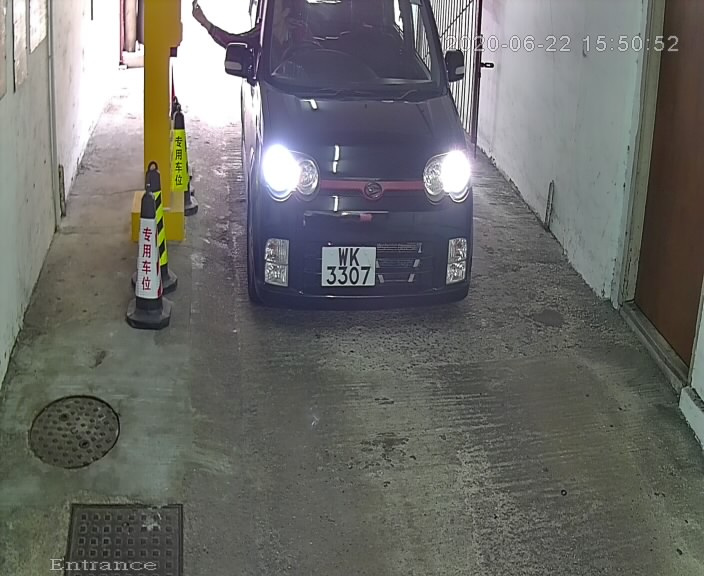privatecar: (215, 2, 498, 316)
